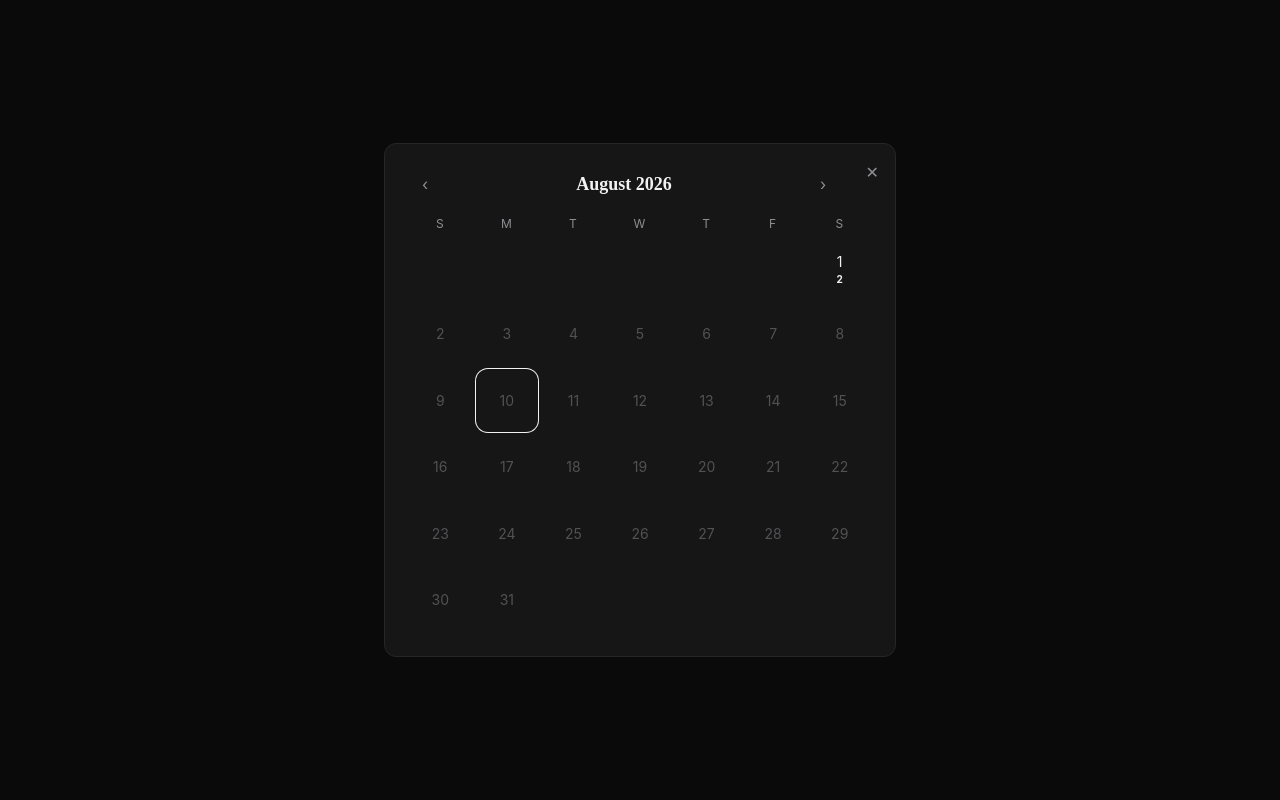
Test: CalendarModal › drills into a day and lists its alerts, then opens one on click
Click the button "1 2": {"x": 840, "y": 268} [808,236,871,299]
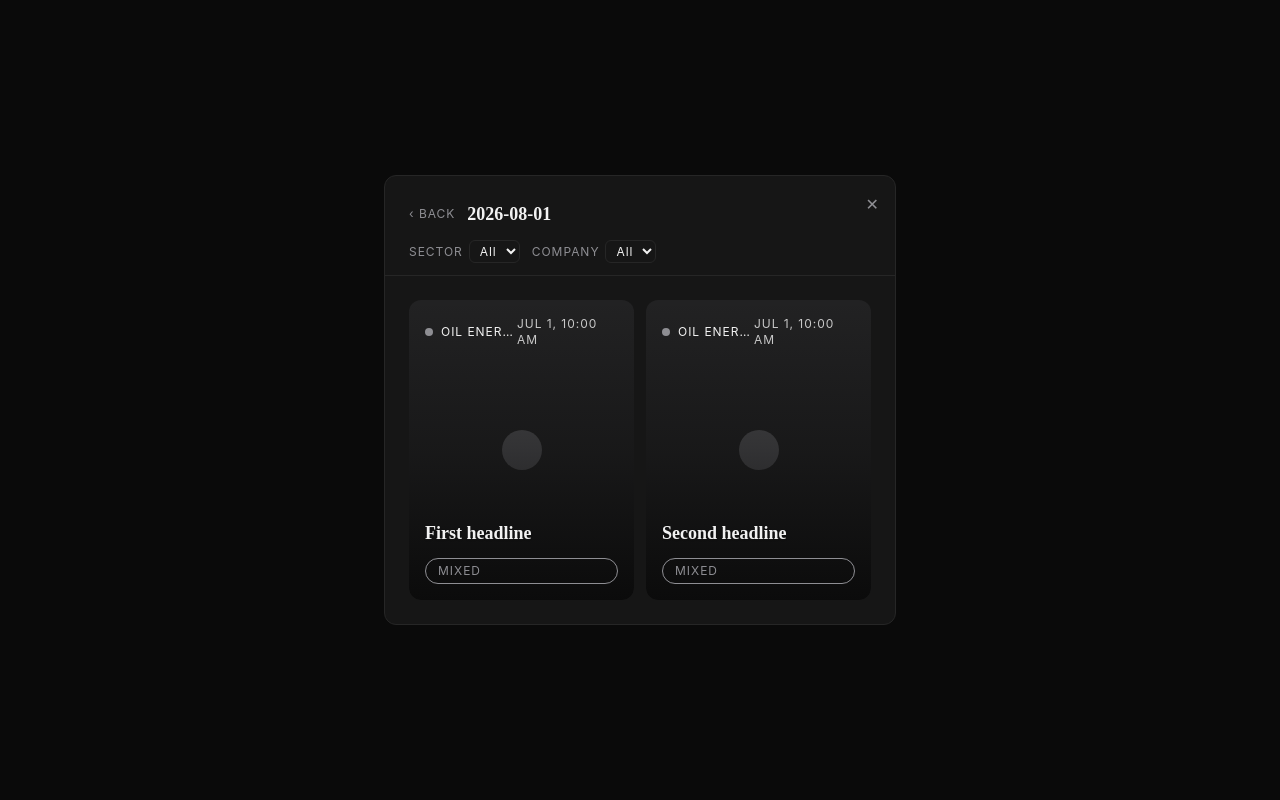
Now the heading "First headline" is shown, box [425,523,532,543]
Now the heading "Second headline" is shown, box [662,523,786,543]
Click the button "oil energy Jul 1, 10:00 AM First headline Mixed": {"x": 522, "y": 450} [409,300,634,600]
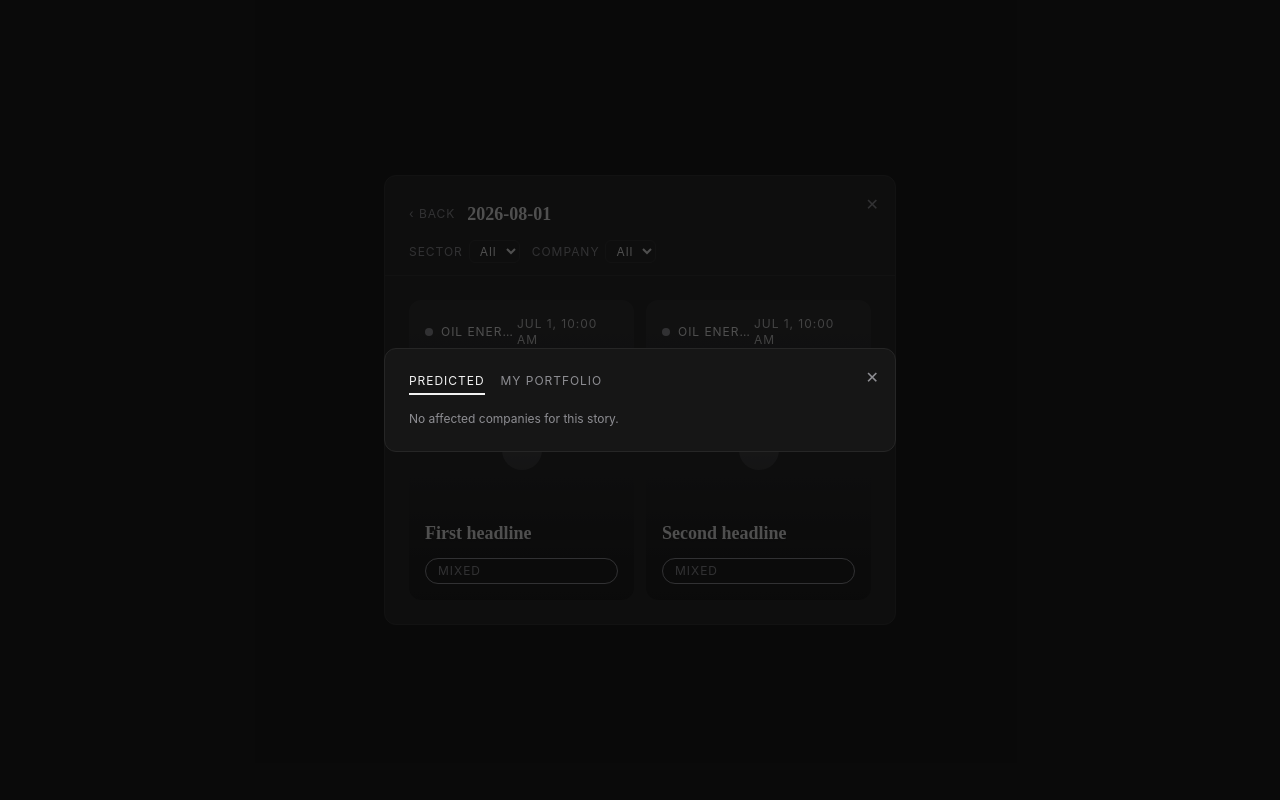
Now the text "No affected companies for this story." is shown, box [409,411,619,426]
